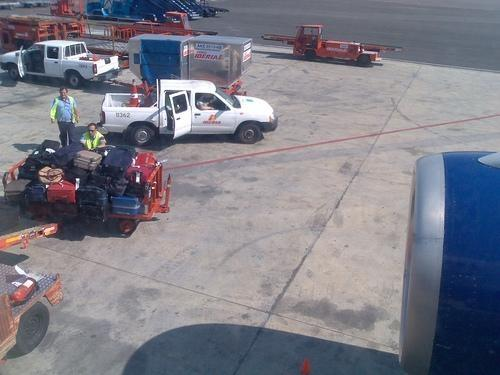car: (1, 262, 64, 360)
truck: (105, 82, 277, 144), (3, 38, 108, 88), (292, 24, 382, 66)
